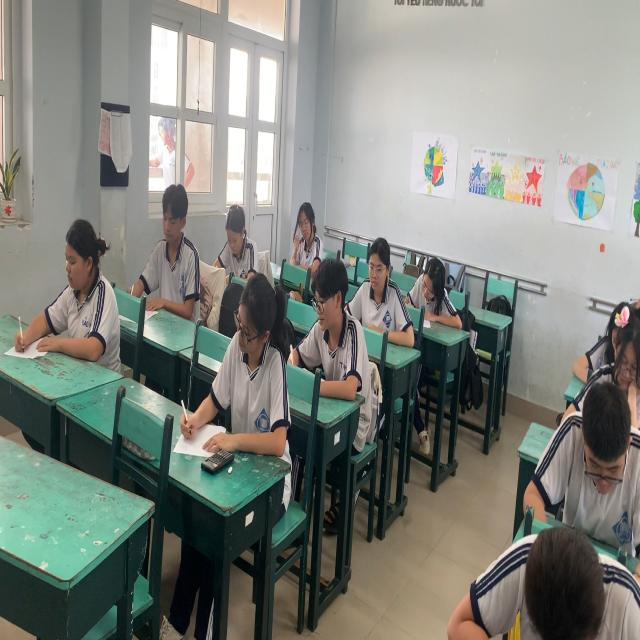not_cheating: (506, 505, 639, 640), (232, 274, 288, 471), (48, 210, 115, 368), (568, 386, 640, 520), (306, 249, 363, 408), (145, 184, 200, 313), (590, 288, 640, 392), (368, 234, 403, 362), (412, 241, 454, 345), (221, 192, 257, 284), (290, 195, 322, 278)
